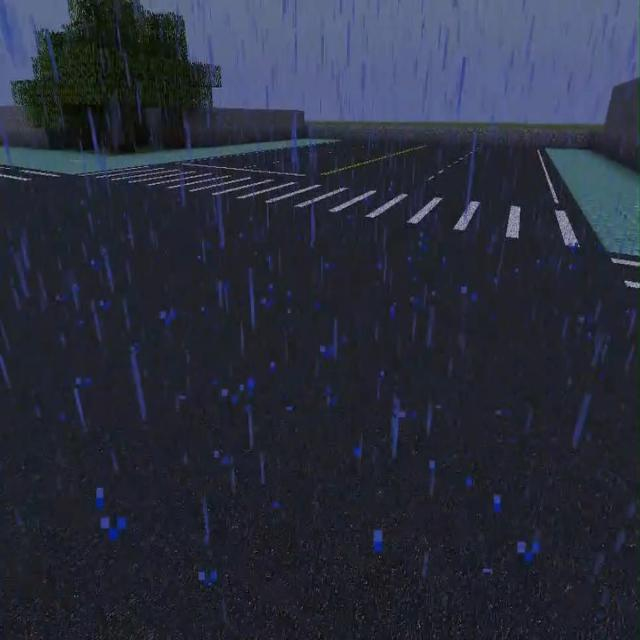8: (83, 164, 605, 260), (0, 167, 68, 192), (610, 257, 639, 313)
crosswalk: (1, 180, 639, 639), (180, 139, 578, 206)
road: (2, 140, 319, 172), (550, 151, 640, 253)
